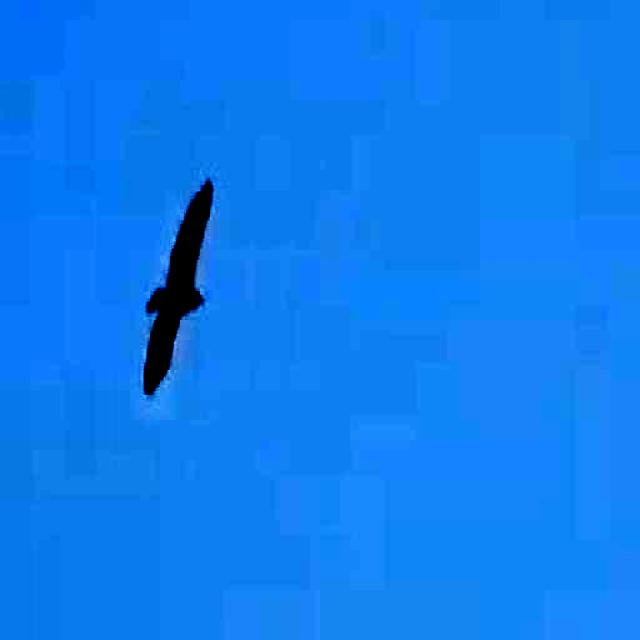airplane: (118, 175, 231, 405)
